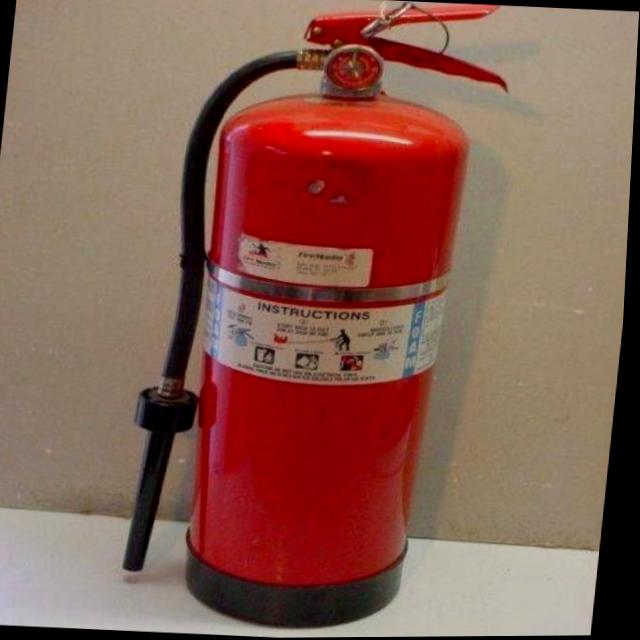FireExtinguisher: (101, 0, 523, 639)
